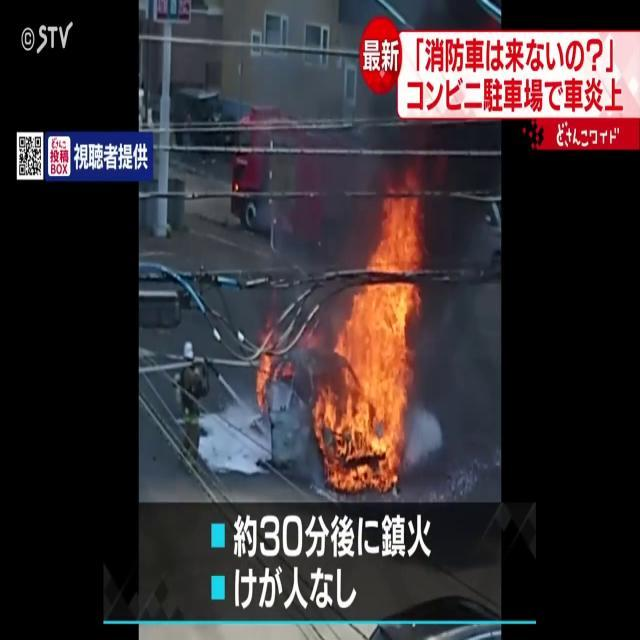Fire: (314, 180, 432, 488)
Smoke: (416, 147, 502, 474)
